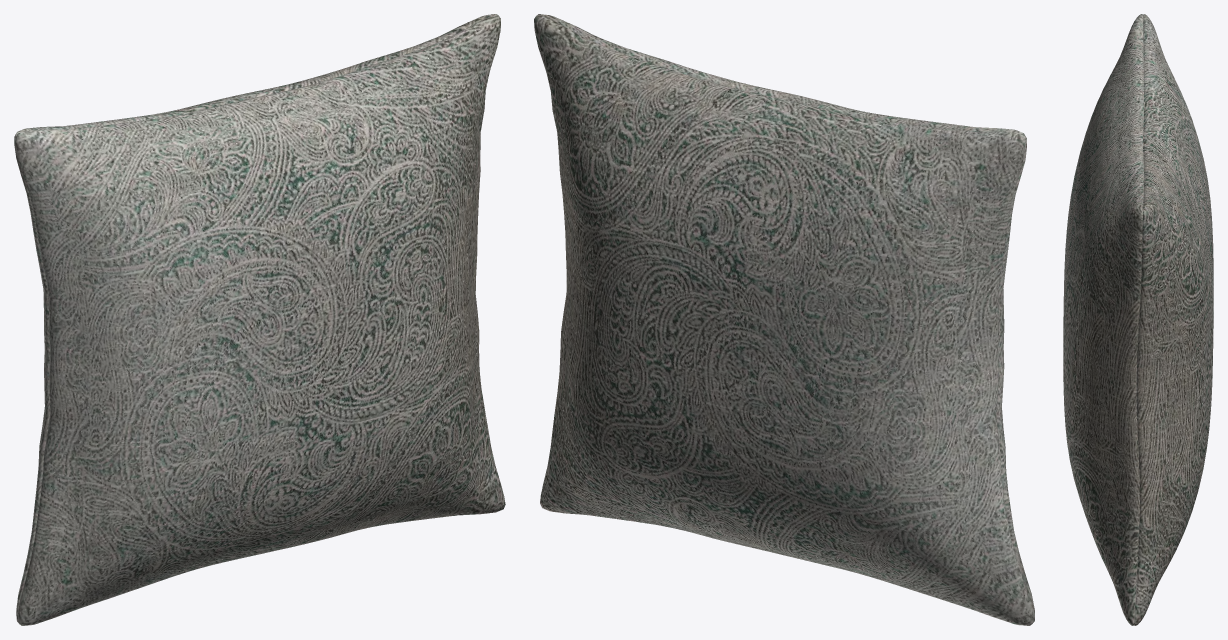
3 views of the same model, side by side, from view 1: azimuth 30°, elevation 25°; view 2: azimuth 150°, elevation 25°; view 3: azimuth 270°, elevation 25° (orthographic). The views are drawn at different scales.
Visible parts, largest first — view 1: RootNode; view 2: RootNode; view 3: RootNode.
Boxes of the visible parts, box(x1,y1,x2,y2) form: RootNode: box(14, 14, 505, 625); RootNode: box(534, 14, 1034, 625); RootNode: box(1063, 14, 1213, 625).
Bounding box in the file's own units: 0.5262 × 0.5065 × 0.1659.
1 material, 1 textured.
